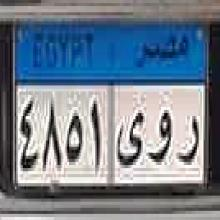1: (88, 100, 104, 176)
4: (16, 95, 38, 177)
5: (63, 108, 83, 170)
8: (41, 92, 62, 175)
raa: (176, 113, 201, 170)
waw: (146, 104, 173, 175)
yaa: (114, 102, 144, 178)
